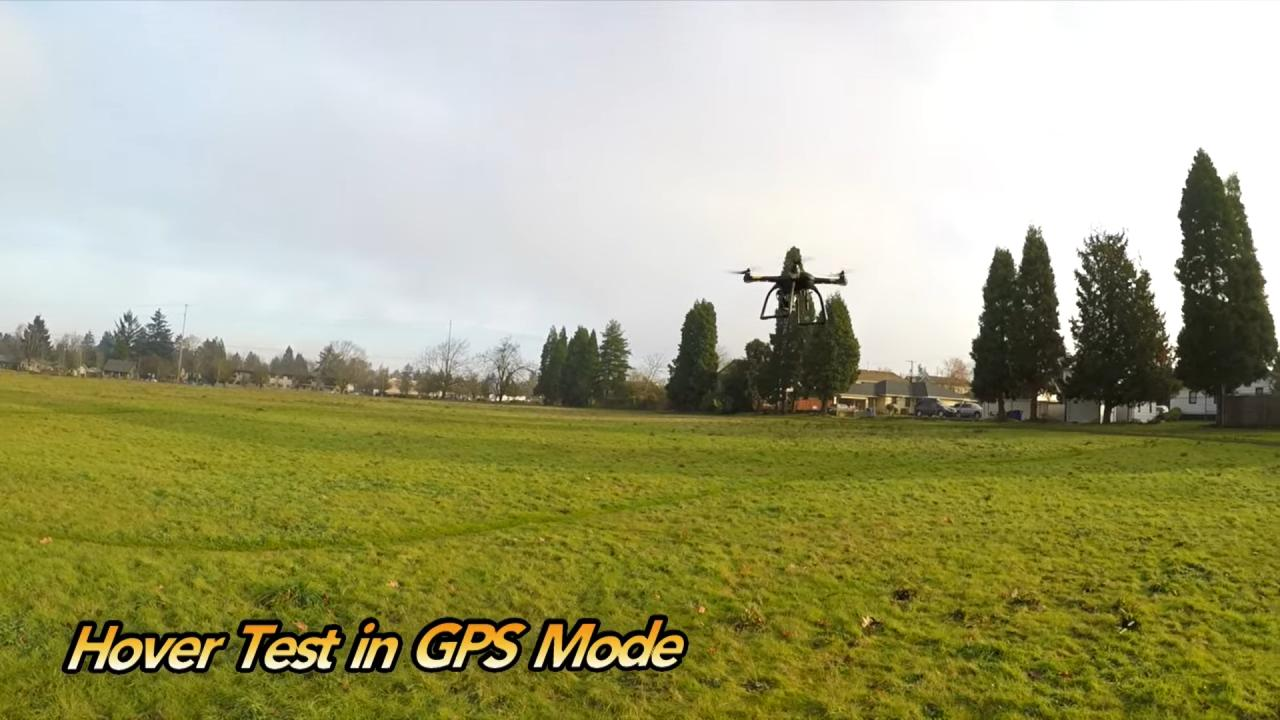Drone: (729, 256, 862, 340)
